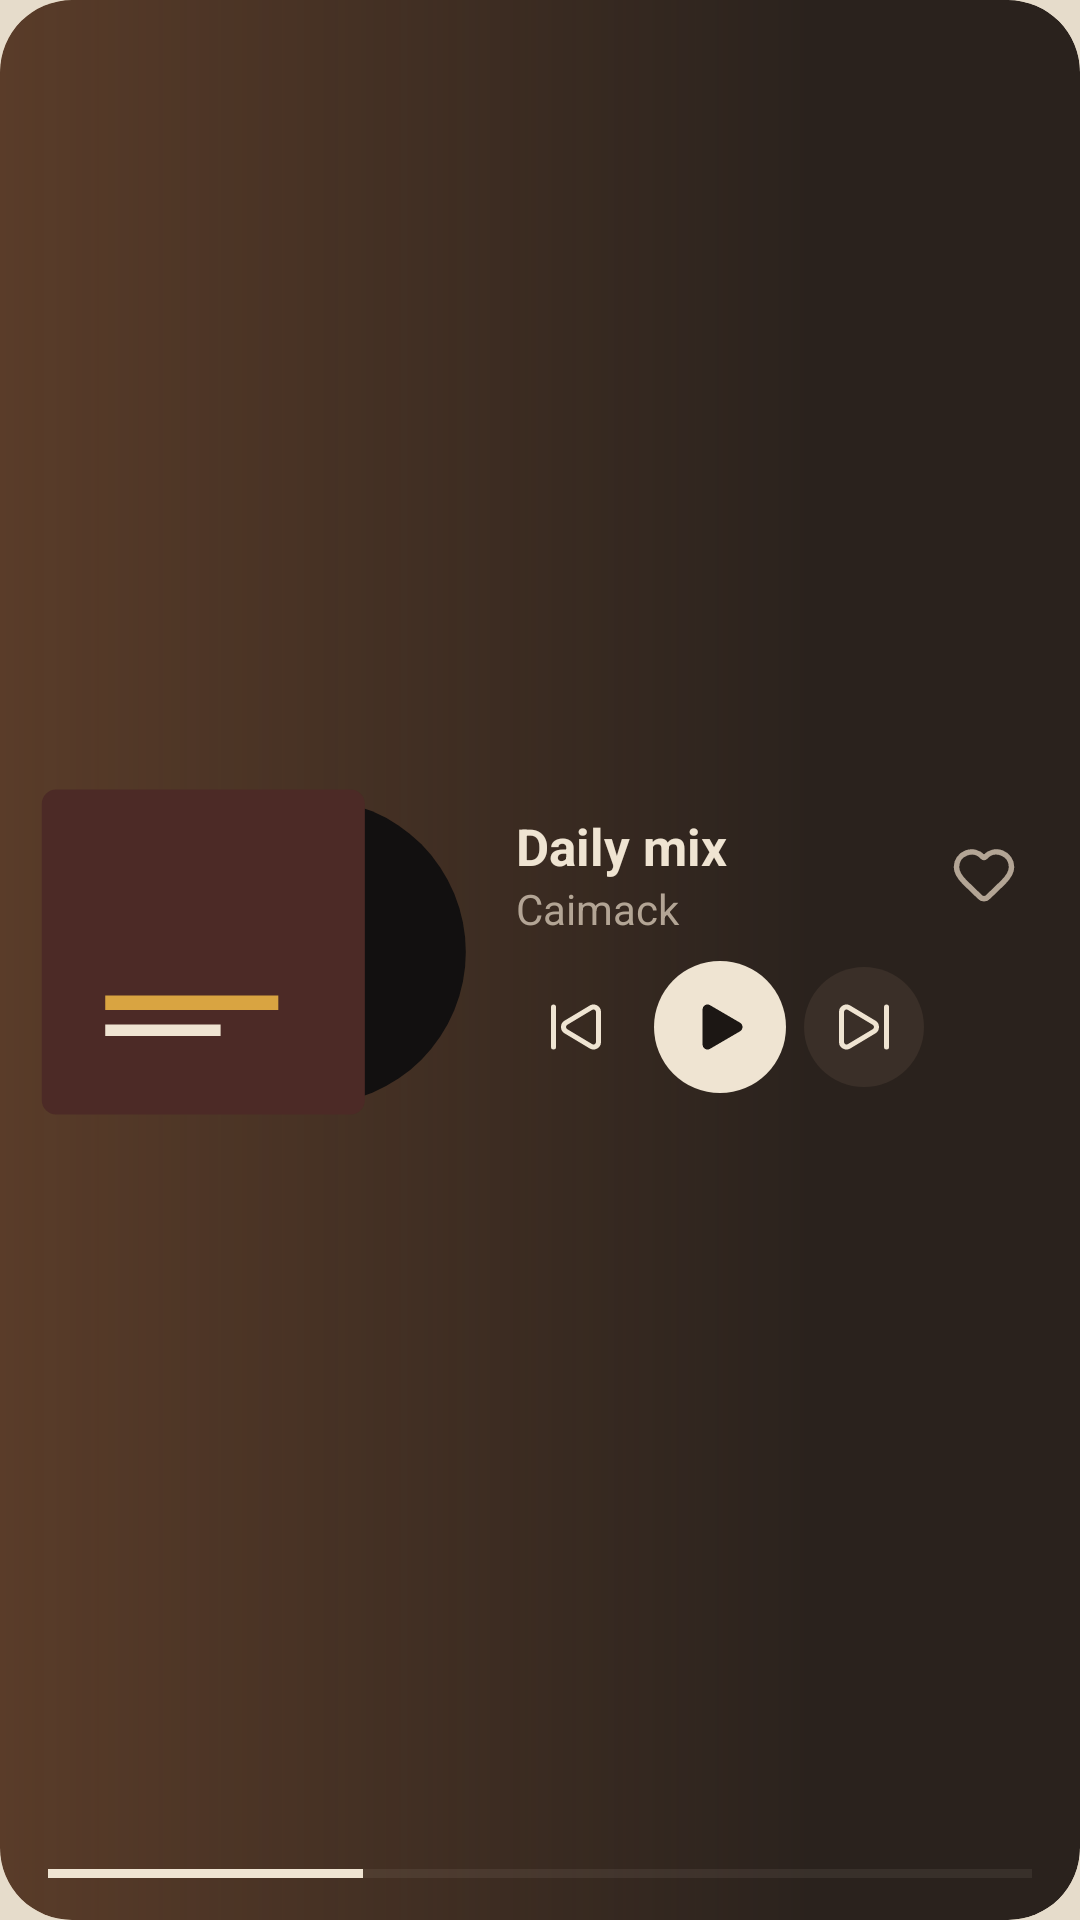

Locate icon controls on the screen. Image size 1080 × 1920, boxes as [x1=x1, y1=y1, x2=x2, y2=y2].
widget heart: [x1=953, y1=849, x2=1015, y2=902]
widget next: [x1=804, y1=967, x2=924, y2=1087]
widget play: [x1=654, y1=961, x2=786, y2=1093]
widget previous: [x1=551, y1=1004, x2=601, y2=1050]
